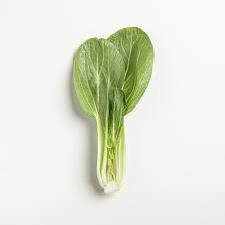Healthy-Pechay: (68, 25, 158, 200)
